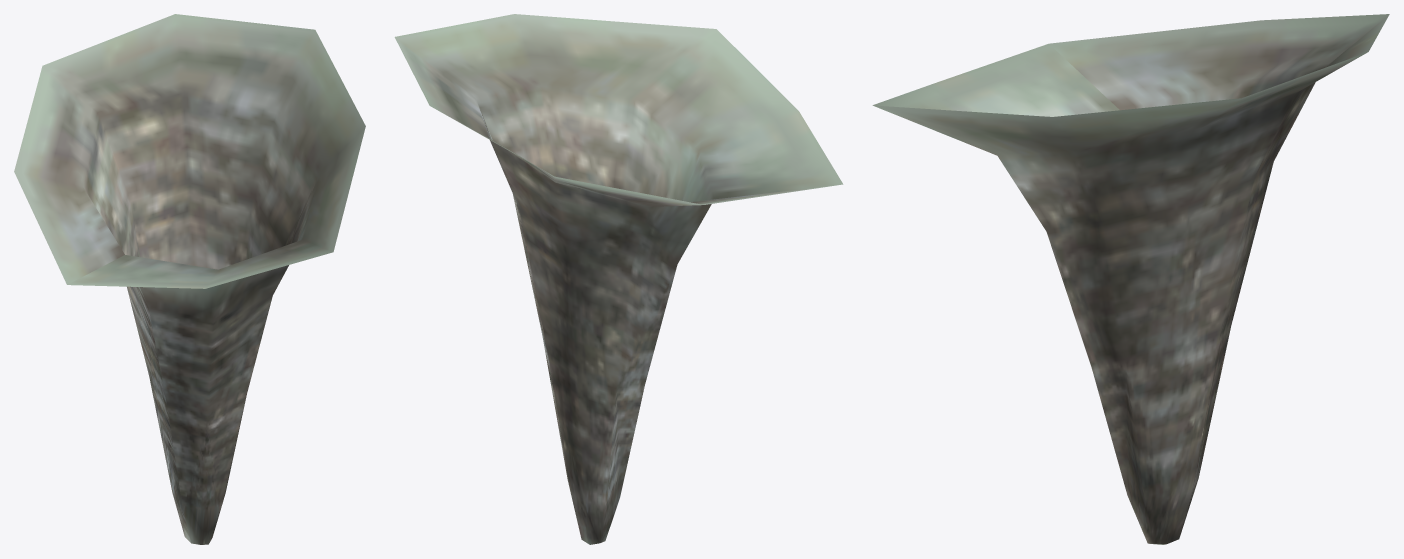
Rendered from TROLLHOLE02_PS-SECRETSTALAG29.fbx.
The picture shows the model from 3 angles, left to right: view 1: azimuth 30°, elevation 25°; view 2: azimuth 150°, elevation 25°; view 3: azimuth 270°, elevation 25°; orthographic projection. The views are drawn at different scales.
Visible parts, largest first — view 1: TROLLHOLE02_PS-SECRETSTALAG29; view 2: TROLLHOLE02_PS-SECRETSTALAG29; view 3: TROLLHOLE02_PS-SECRETSTALAG29.
Boxes of the visible parts, box(x1,y1,x2,y2) form: TROLLHOLE02_PS-SECRETSTALAG29: box(14, 14, 365, 544); TROLLHOLE02_PS-SECRETSTALAG29: box(394, 14, 843, 544); TROLLHOLE02_PS-SECRETSTALAG29: box(872, 14, 1389, 544).
Size of the model in its own units: 17074 by 22361 by 19690.
Materials: 1 (1 with a texture image).
